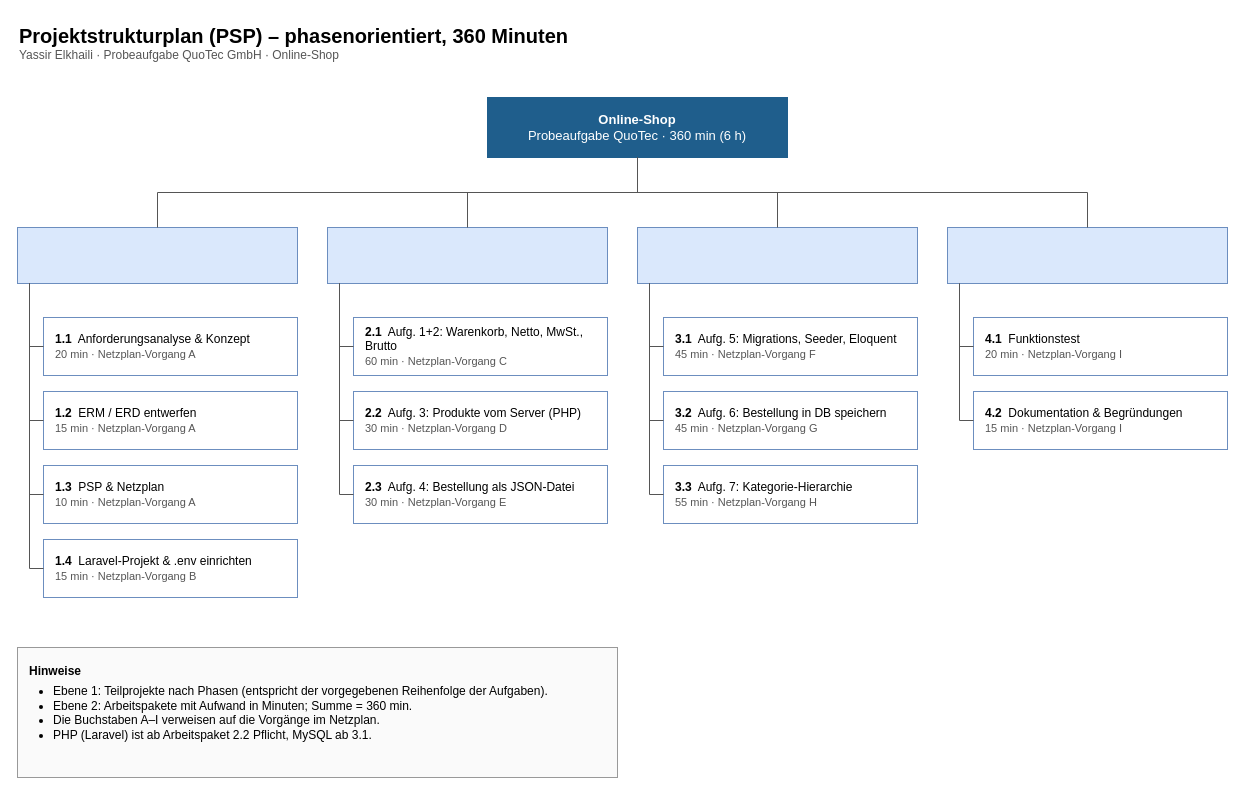
Image size: 1245x795. Some labels were removed from this diagram. The centre of each missing label's shape, as x and y in pixels:
"1 Planung & Einrichtung 60 min" goes at (157,255).
"2 Shop ohne Datenbank 120 min" goes at (467,255).
"3 Shop mit Datenbank 145 min" goes at (777,255).
"4 Abschluss 35 min" goes at (1087,255).
